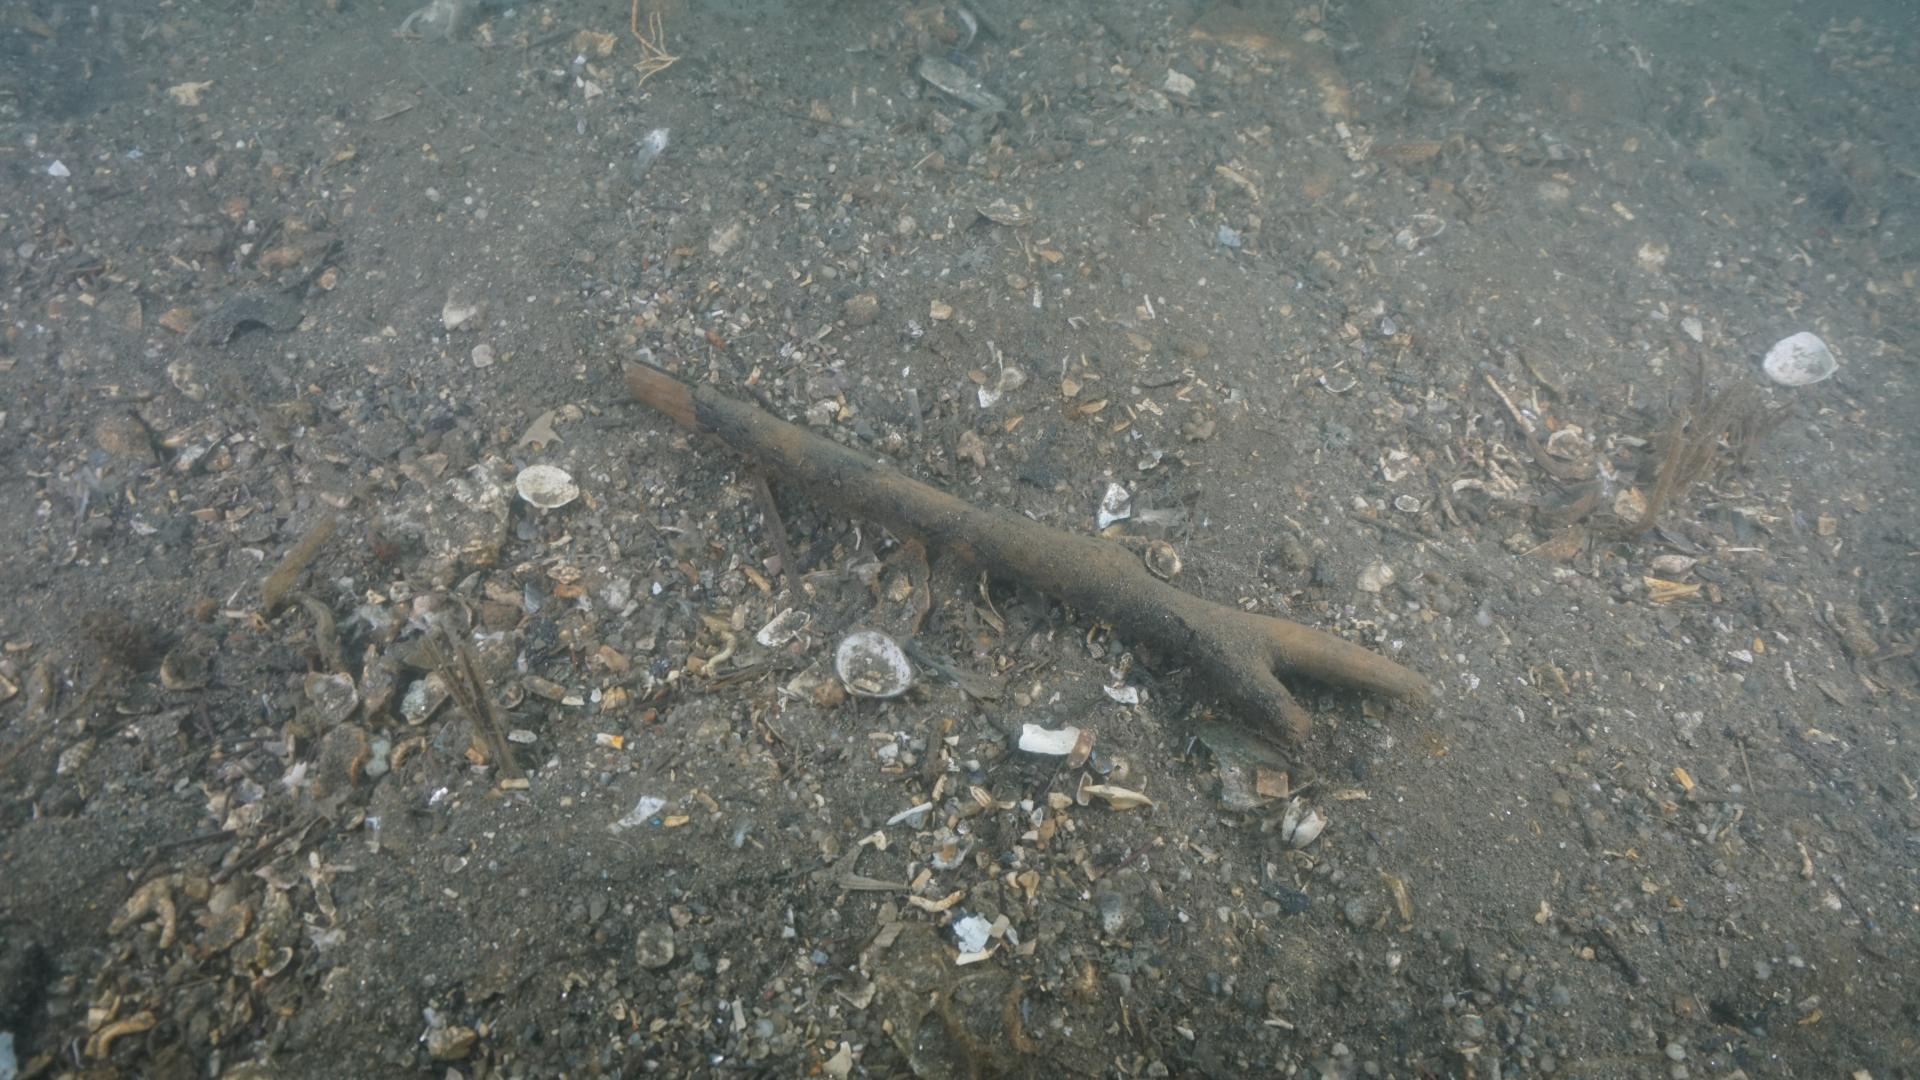wood: (620, 353, 1429, 749)
